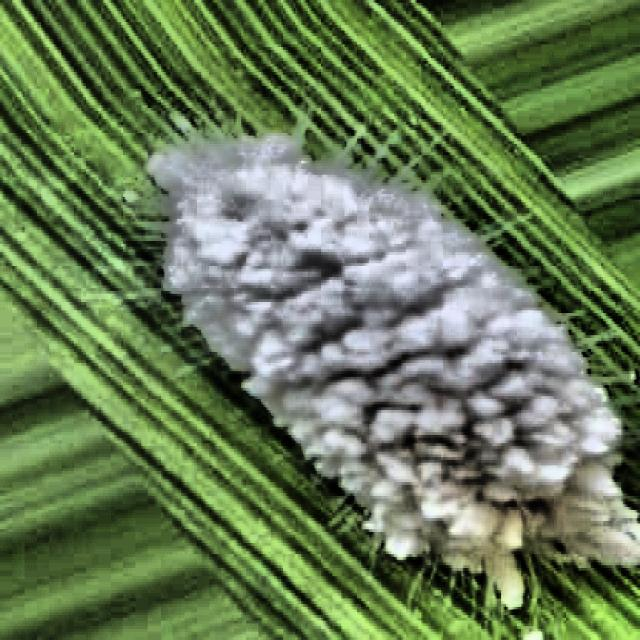Mealy-bug: (129, 81, 640, 637)
